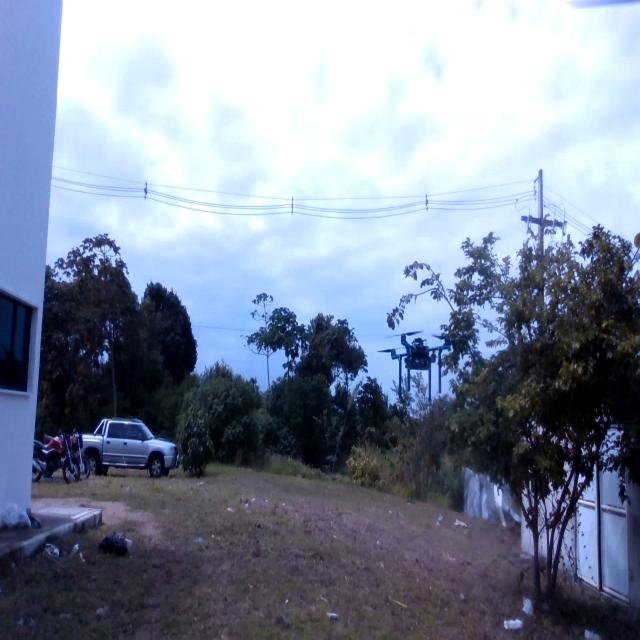-uav-: (370, 324, 462, 410)
